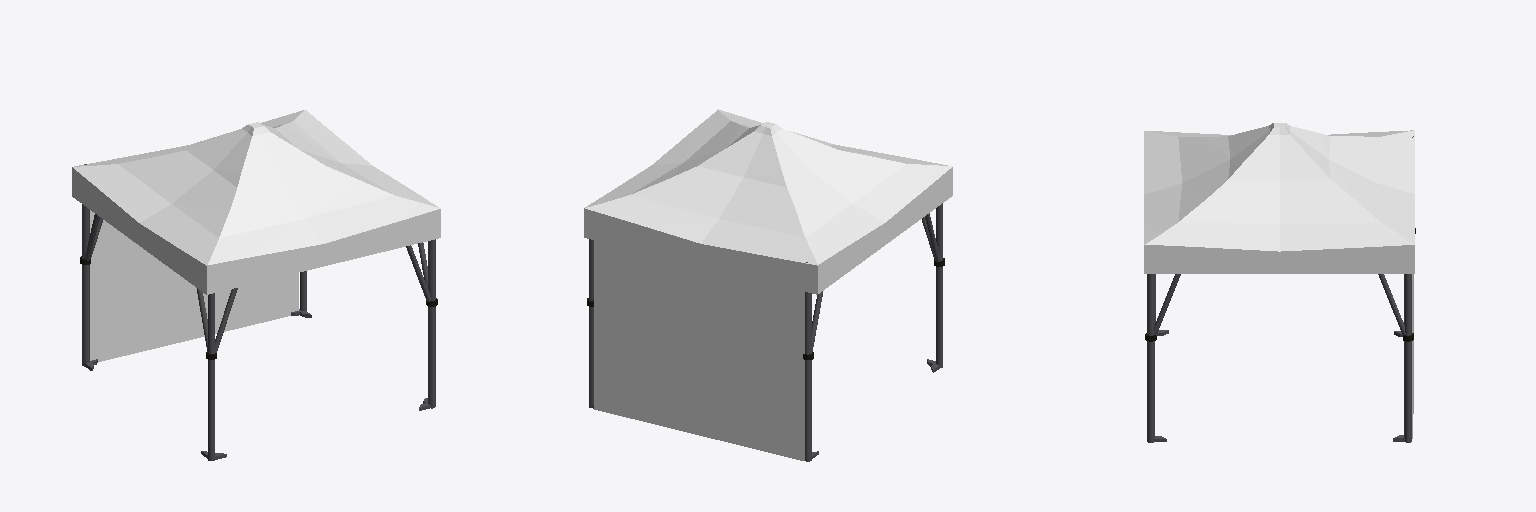
Rendered from CK_Tent.obj.
3 views of the same model, side by side, from view 1: azimuth 30°, elevation 25°; view 2: azimuth 150°, elevation 25°; view 3: azimuth 270°, elevation 25° (orthographic).
Visible parts, largest first — view 1: tent; view 2: tent; view 3: tent.
Part boxes in pixels (x1,y1,x2,y2): tent: (72, 110, 440, 460); tent: (584, 109, 952, 461); tent: (1144, 123, 1415, 442).
Size of the model in its own units: 12.57 by 13.44 by 12.61.